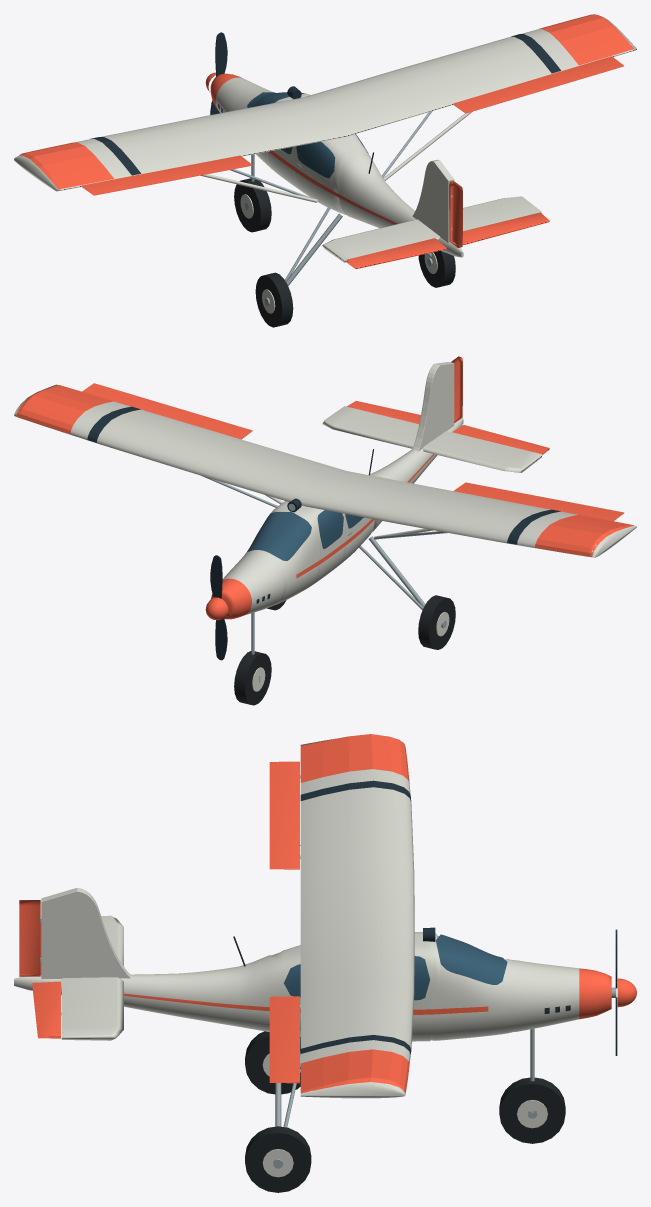
The model's file is rift-t15.glb.
3 renders of one model, top to bottom at view 1: azimuth 30°, elevation 25°; view 2: azimuth 150°, elevation 25°; view 3: azimuth 270°, elevation 25°, orthographic. The views are drawn at different scales.
Parts seen in each view (by area): view 1: T15_static_shell_3, T15_static_shell_0, T15_aileron (×2), T15_static_shell_5, T15_elevator (×2), T15_static_shell_2, T15_static_shell_4, T15_static_shell_1, T15_rudder, T15_shaped_prop_blade; view 2: T15_static_shell_3, T15_static_shell_0, T15_aileron (×2), T15_static_shell_4, T15_static_shell_5, T15_elevator (×2), T15_static_shell_2, T15_static_shell_1, T15_rudder; view 3: T15_static_shell_3, T15_static_shell_0, T15_static_shell_5, T15_aileron (×2), T15_static_shell_4, T15_static_shell_1, T15_rudder, T15_elevator, T15_static_shell_2.
Part boxes in pixels (x1,y1,x2,y2): T15_static_shell_3: [14, 16, 636, 313]; T15_static_shell_0: [19, 14, 634, 224]; T15_aileron (×2): [81, 56, 623, 195]; T15_static_shell_5: [234, 178, 455, 327]; T15_elevator (×2): [346, 212, 549, 269]; T15_static_shell_2: [230, 111, 432, 305]; T15_static_shell_4: [247, 92, 368, 178]; T15_static_shell_1: [90, 34, 560, 175]; T15_rudder: [449, 181, 462, 247]; T15_shaped_prop_blade: [215, 32, 227, 76]; T15_static_shell_3: [14, 362, 636, 691]; T15_static_shell_0: [16, 385, 633, 620]; T15_aileron (×2): [82, 383, 624, 521]; T15_static_shell_4: [247, 510, 363, 560]; T15_static_shell_5: [234, 595, 455, 705]; T15_elevator (×2): [347, 401, 549, 455]; T15_static_shell_2: [201, 475, 447, 682]; T15_static_shell_1: [87, 406, 560, 615]; T15_rudder: [451, 356, 462, 423]; T15_static_shell_3: [14, 738, 579, 1177]; T15_static_shell_0: [124, 734, 636, 1093]; T15_static_shell_5: [245, 1031, 565, 1192]; T15_aileron (×2): [269, 761, 299, 1083]; T15_static_shell_4: [284, 934, 507, 1000]; T15_static_shell_1: [233, 780, 570, 1054]; T15_rudder: [19, 900, 40, 976]; T15_elevator: [32, 981, 60, 1038]; T15_static_shell_2: [273, 845, 616, 1168].
Bounding box in the file's own units: 1.5 × 0.5015 × 1.13.
